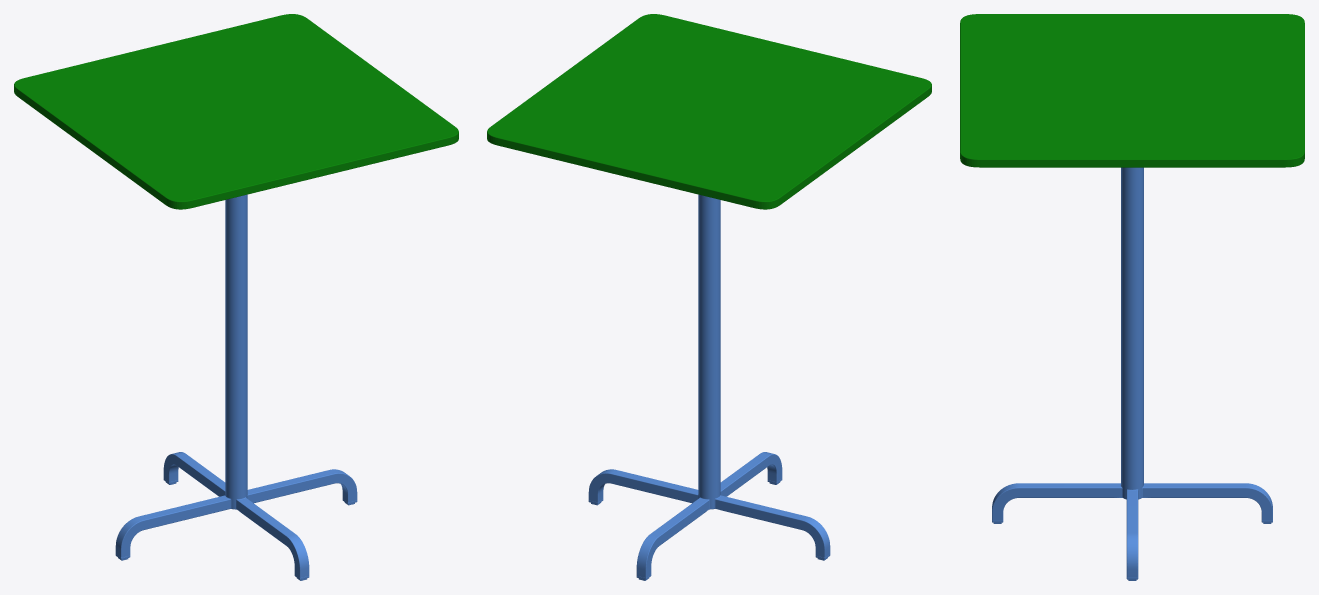
File: SQUARE_TABLE.obj
3 renders of one model, left to right at view 1: azimuth 30°, elevation 25°; view 2: azimuth 150°, elevation 25°; view 3: azimuth 270°, elevation 25°, orthographic. The views are drawn at different scales.
Parts seen in each view (by area): view 1: Box001, Cylinder002; view 2: Box001, Cylinder002; view 3: Box001, Cylinder002.
Part boxes in pixels (box(x1,y1,x2,y2)): Box001: box(14, 14, 458, 209); Cylinder002: box(115, 194, 357, 577); Box001: box(487, 14, 931, 209); Cylinder002: box(588, 194, 830, 577); Box001: box(960, 14, 1304, 167); Cylinder002: box(992, 167, 1272, 577).
Bounding box in the file's own units: 76 × 106 × 76.
